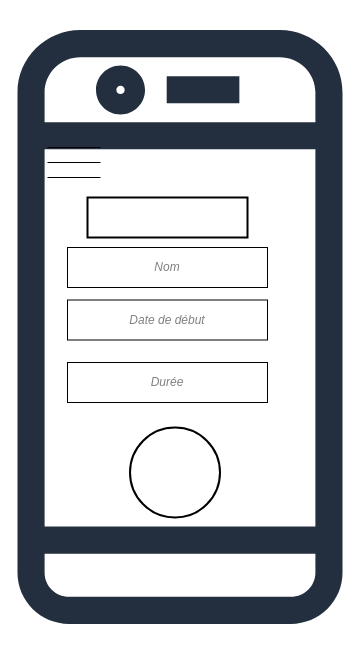
This 359x653 diagram has some shape labels left out. The shapes that lost their labels are listed below. From the top down, each one's centre as x and y in pixels, then its label:
point 167,217: Ajoute une tâche
point 174,472: AJOUTER
